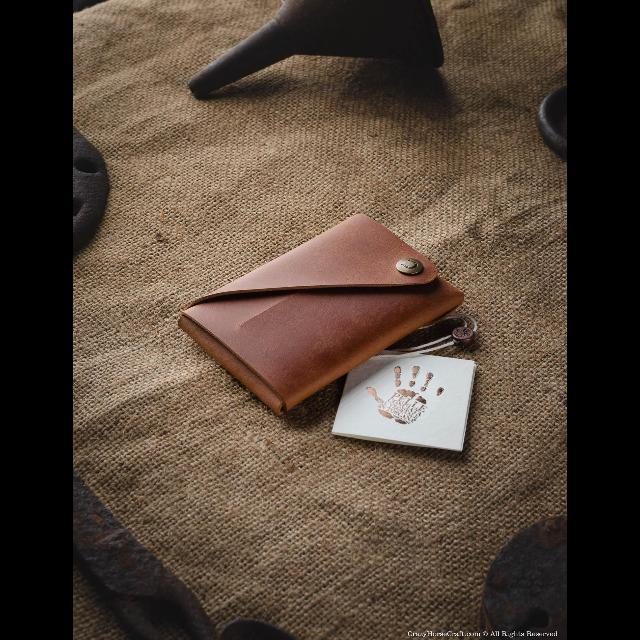wallet: (174, 216, 462, 420)
